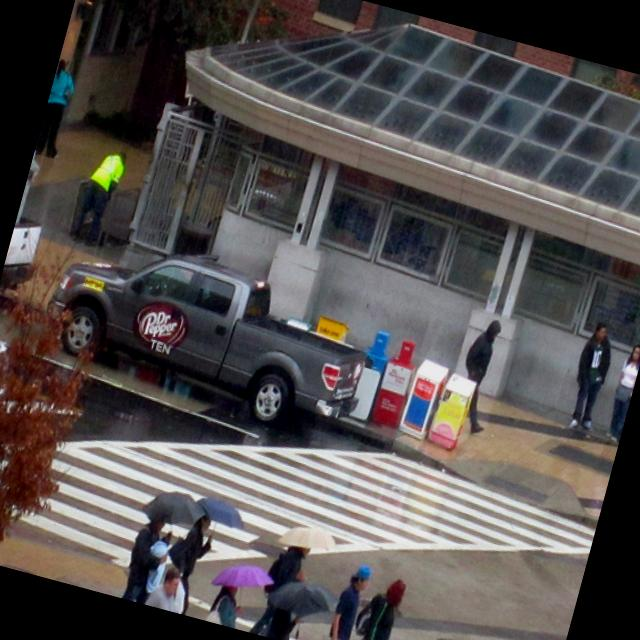Vehicle: (30, 216, 387, 450)
